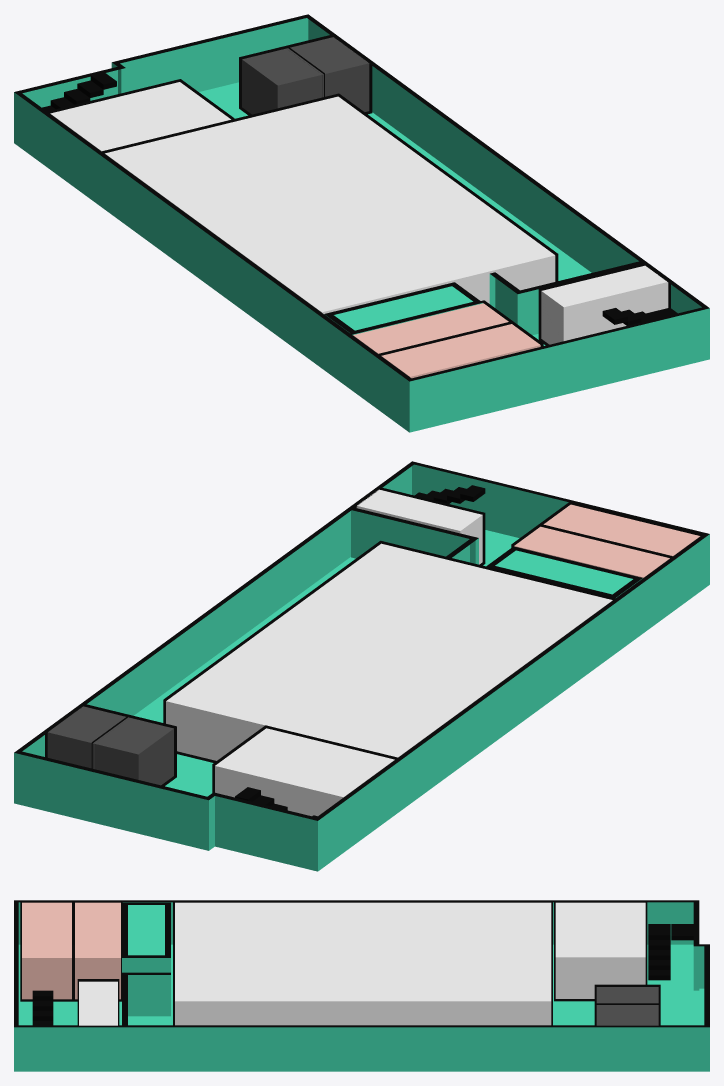
3 renders of one model, top to bottom at view 1: azimuth 30°, elevation 25°; view 2: azimuth 150°, elevation 25°; view 3: azimuth 270°, elevation 25°, orthographic. The views are drawn at different scales.
Visible parts, largest first — view 1: object, room_3_7_3, エレベーター_3_7_1, room_3_7_2, room_3_7_1, トイレ_3_7_1, トイレ_3_7_2, object_line.003, 階段_3_7_1, object_line, 階段_3_7_2, object_line.005 (+1 smaller); view 2: object, room_3_7_3, room_3_7_2, エレベーター_3_7_1, トイレ_3_7_1, トイレ_3_7_2, room_3_7_1, object_line.003, object_line, 階段_3_7_2, object_line.004; view 3: object, room_3_7_3, room_3_7_2, トイレ_3_7_1, トイレ_3_7_2, エレベーター_3_7_1, room_3_7_1, 階段_3_7_1, object_line.003, object_line.004, 階段_3_7_2, object_line.002 (+3 smaller).
Part boxes in pixels (box(x1,y1,x2,y2)): object: box(14, 14, 709, 432); room_3_7_3: box(104, 96, 555, 313); エレベーター_3_7_1: box(242, 37, 369, 114); room_3_7_2: box(50, 82, 230, 151); room_3_7_1: box(541, 265, 668, 344); トイレ_3_7_1: box(381, 324, 540, 378); トイレ_3_7_2: box(353, 303, 508, 353); object_line.003: box(102, 93, 558, 281); 階段_3_7_1: box(42, 72, 116, 111); object_line: box(239, 34, 372, 115); 階段_3_7_2: box(602, 307, 677, 325); object_line.005: box(538, 262, 670, 345); object: box(14, 461, 709, 871); room_3_7_3: box(166, 543, 612, 760); room_3_7_2: box(215, 728, 394, 816); エレベーター_3_7_1: box(47, 706, 173, 785); トイレ_3_7_1: box(543, 504, 700, 556); トイレ_3_7_2: box(514, 526, 669, 577); room_3_7_1: box(356, 489, 482, 564); object_line.003: box(163, 540, 615, 762); object_line: box(45, 703, 176, 786); 階段_3_7_2: box(415, 485, 485, 503); object_line.004: box(212, 725, 397, 792); object: box(14, 900, 709, 1071); room_3_7_3: box(175, 902, 551, 1025); room_3_7_2: box(555, 902, 645, 998); トイレ_3_7_1: box(22, 902, 71, 999); トイレ_3_7_2: box(75, 902, 120, 999); エレベーター_3_7_1: box(596, 987, 658, 1025); room_3_7_1: box(79, 981, 117, 1025); 階段_3_7_1: box(648, 924, 693, 980); object_line.003: box(173, 900, 552, 1025); object_line.004: box(554, 900, 647, 1001); 階段_3_7_2: box(32, 990, 53, 1025); object_line.002: box(20, 900, 73, 1001).
Size of the model in its own units: 1.08 by 0.1813 by 2.49.
